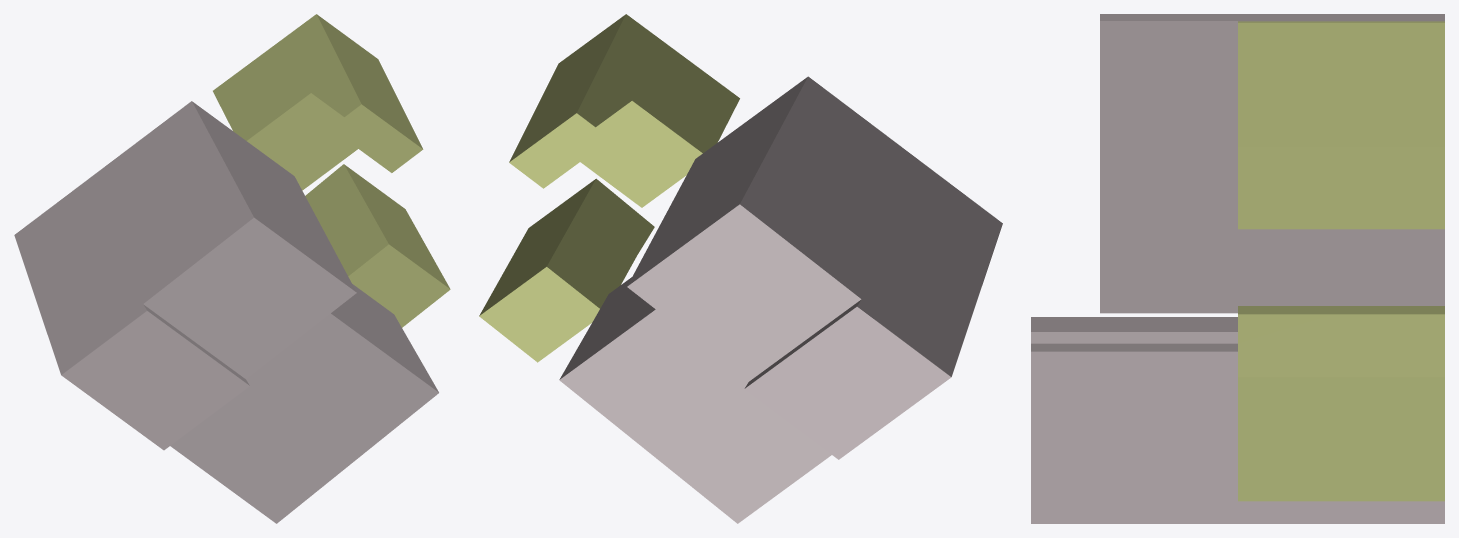
The picture shows the model from 3 angles, left to right: view 1: azimuth 30°, elevation 25°; view 2: azimuth 150°, elevation 25°; view 3: azimuth 270°, elevation 25°; orthographic projection. The views are drawn at different scales.
Visible parts, largest first — view 1: 0_3_1_3_0_0_3_0_1; view 2: 0_3_1_3_0_0_3_0_1; view 3: 0_3_1_3_0_0_3_0_1.
Boxes of the visible parts, x1,y1,x2,y2 form: 0_3_1_3_0_0_3_0_1: (14, 14, 450, 523); 0_3_1_3_0_0_3_0_1: (479, 14, 1002, 523); 0_3_1_3_0_0_3_0_1: (1031, 14, 1444, 523).
Size of the model in its own units: 31.54 by 30.55 by 18.
